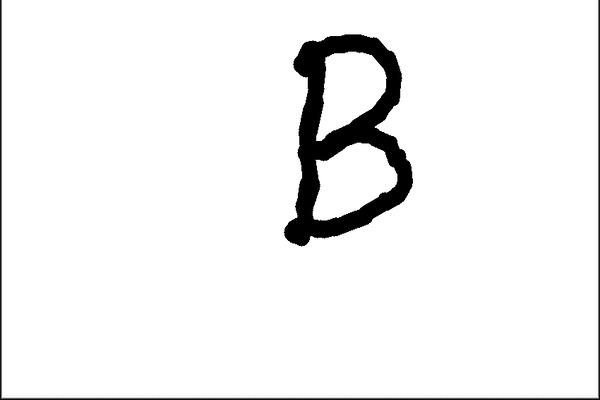B: (273, 24, 427, 255)
